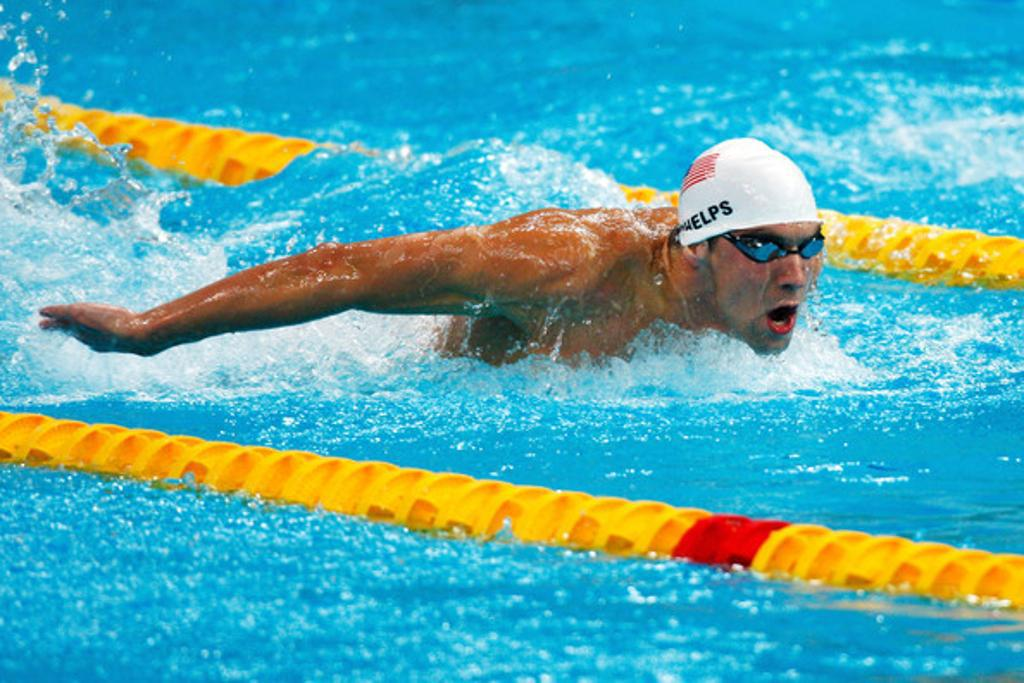face: (729, 209, 821, 357)
